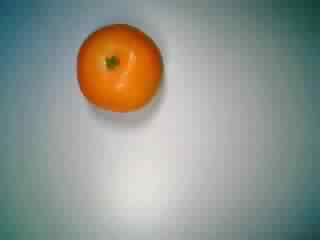orange: (71, 20, 167, 116)
